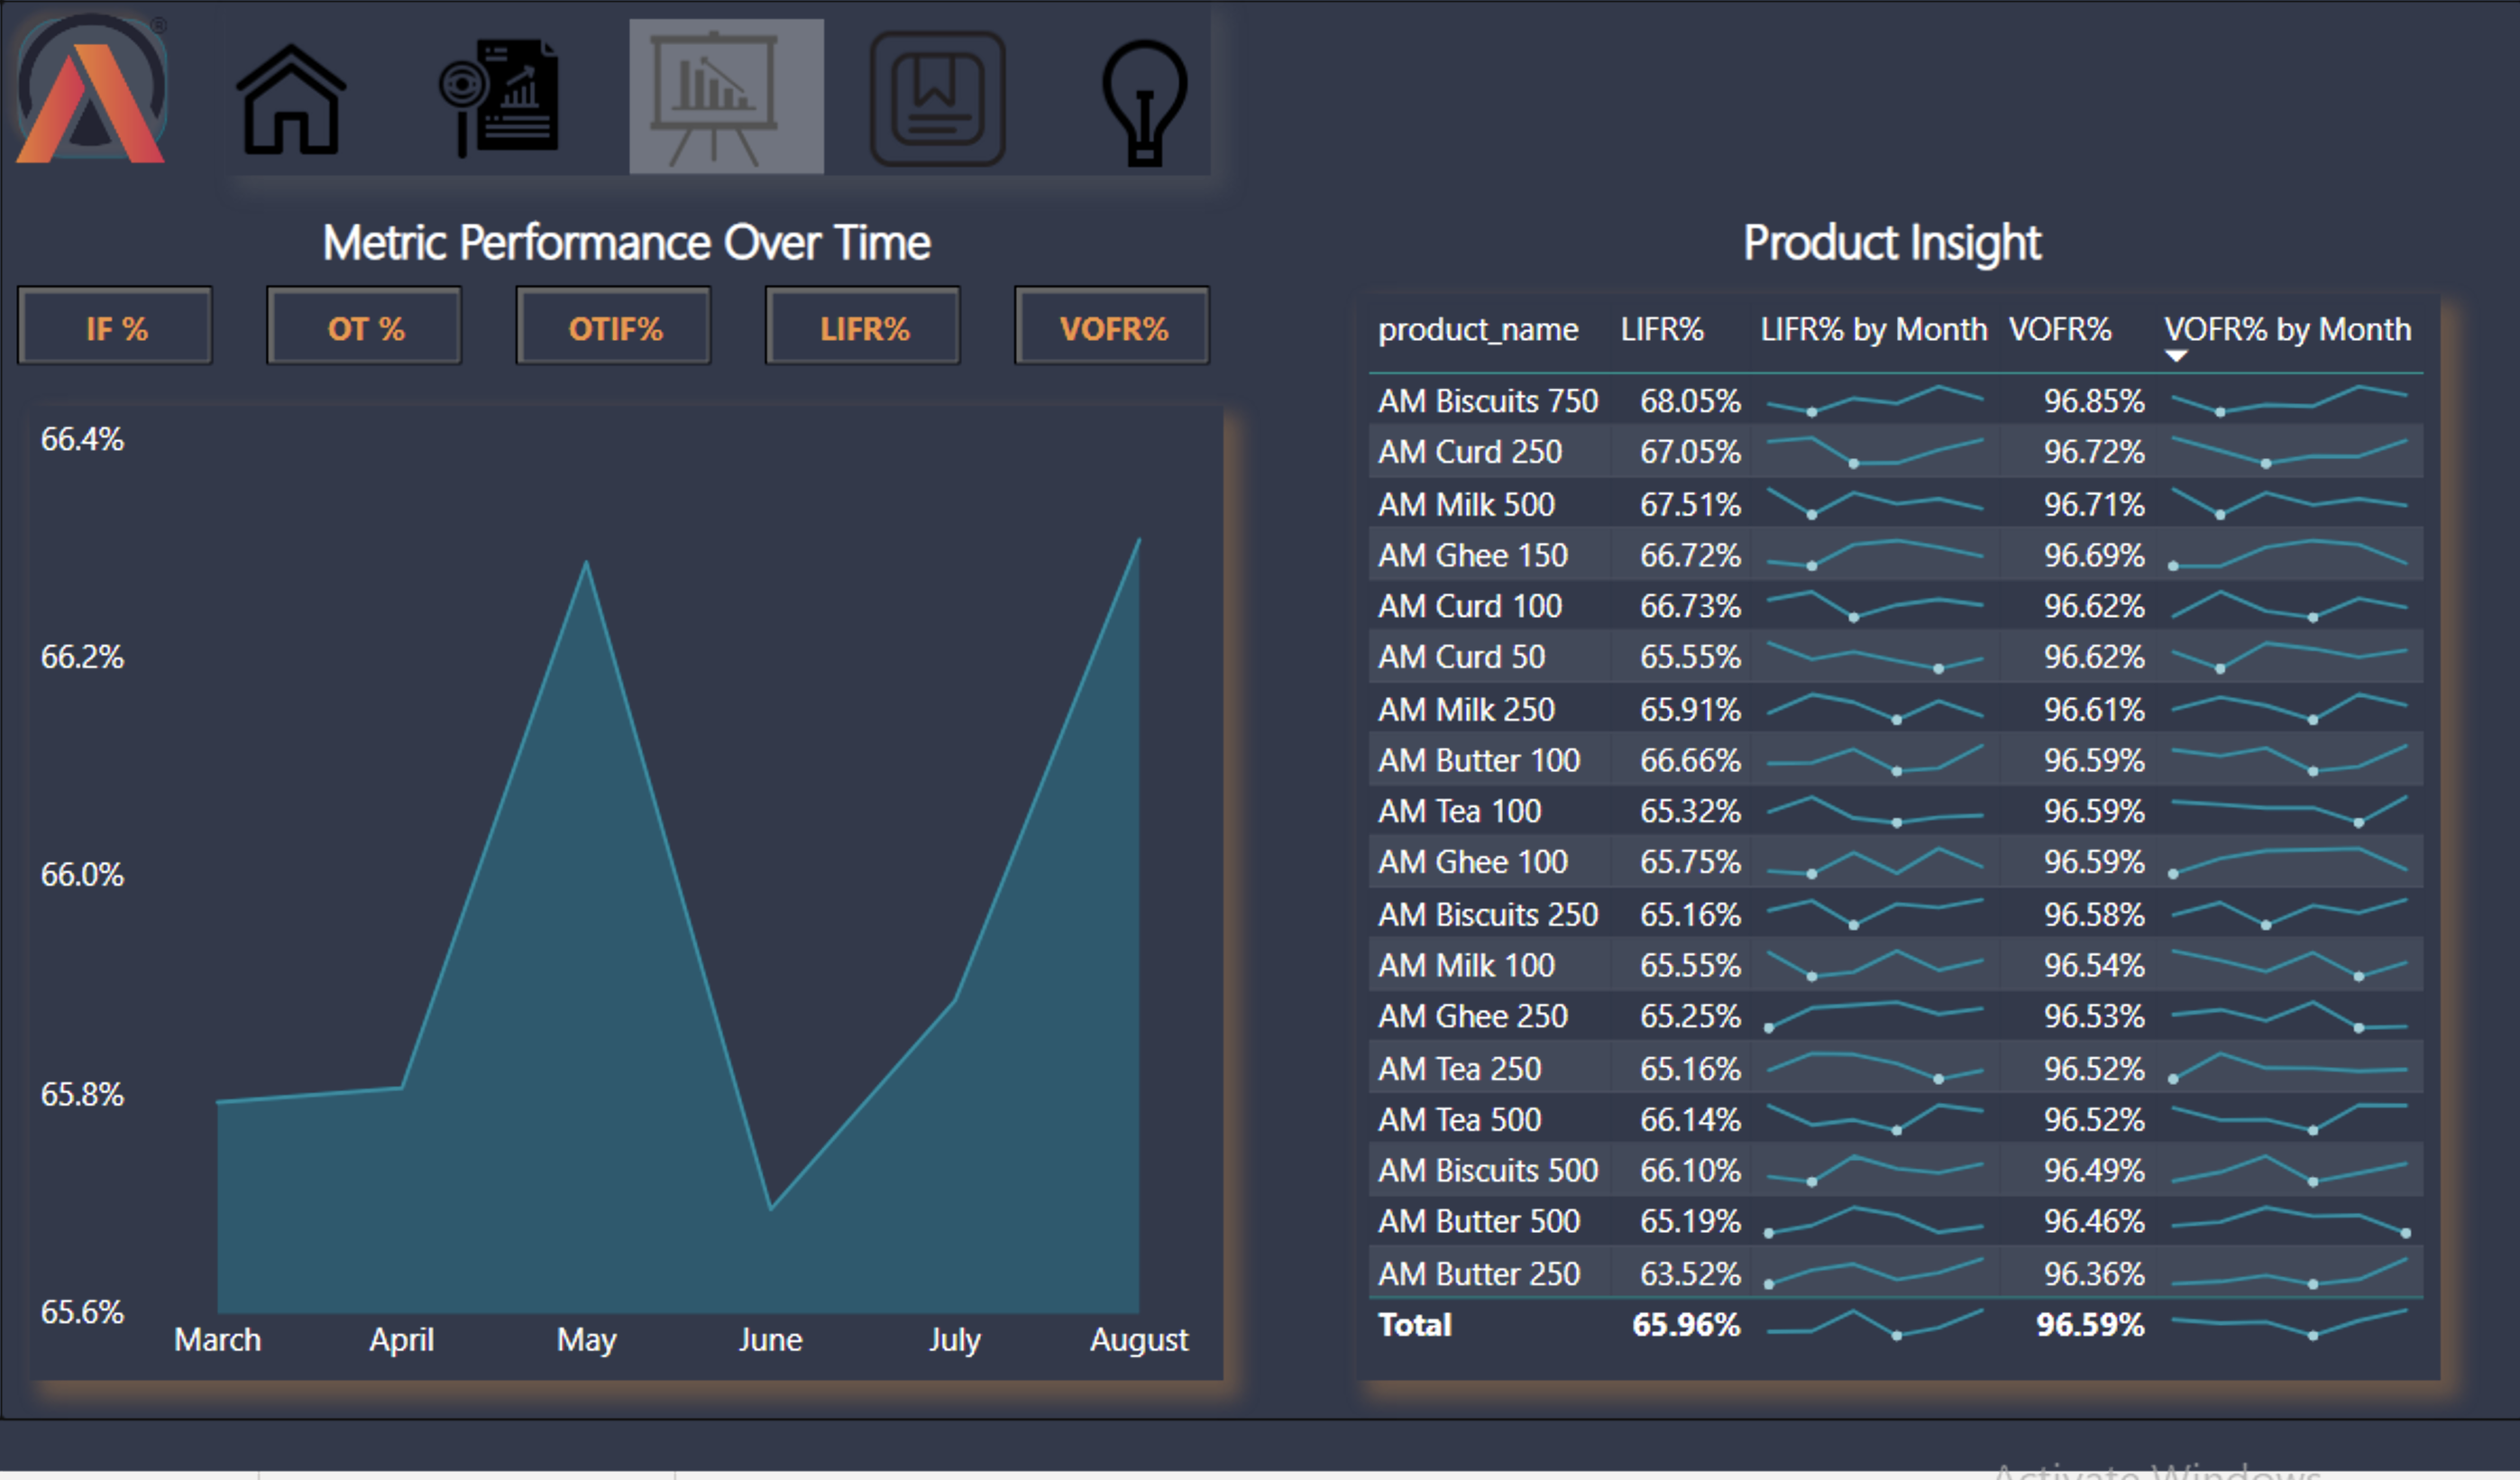

The page's visual inventory and layout, read from the dashboard file:
{"tool":"powerbi","page":{"name":"Over time View","canvas":[1280,720],"ordinal":2},"visuals":[{"type":"actionButton","title":"IF % button","box":[8.4,144.9,99.5,40.5],"z":1000},{"type":"actionButton","title":"ot  button","box":[134.9,144.9,99.5,40.5],"z":2000},{"type":"actionButton","title":"lifr button","box":[387.9,144.9,99.5,40.5],"z":3000},{"type":"actionButton","title":"otif button","box":[261.4,144.9,99.5,40.5],"z":4000},{"type":"tableEx","fields":{"Values":["dim_products.product_name","DAX measures.LIFR%","SparklineData(DAX measures.LIFR%_[dim_date.date.Variation.Date Hierarchy.Month])","DAX measures.VOFR%","SparklineData(DAX measures.VOFR%_[dim_date.date.Variation.Date Hierarchy.Month])"]},"box":[688.1,148.4,549.8,551.5],"z":5000},{"type":"actionButton","title":"vofr button","box":[514.4,144.9,99.5,40.5],"z":6000},{"type":"areaChart","title":"LIFR % graph","fields":{"Category":["dim_date.Month"],"Y":["DAX measures.LIFR%"]},"box":[15.2,205.7,605.4,494.1],"z":9000},{"type":"textbox","box":[15.2,99.5,605.4,45.5],"z":11000},{"type":"textbox","box":[688.1,99.5,549.8,45.5],"z":12000},{"type":"shape","box":[0,0,93.7,88.9],"z":13000},{"type":"shape","title":"BOX","box":[114.7,0,499.2,89.4],"z":13500},{"type":"image","box":[0,0,94.4,87.7],"z":14000},{"type":"image","box":[107.9,10.1,79,80],"z":15000},{"type":"image","box":[213.3,10.1,79,80],"z":16000},{"type":"image","box":[322.1,10.1,79,80],"z":17000},{"type":"image","box":[435.9,10.1,79,80],"z":18000},{"type":"image","box":[541.3,10.1,79,80],"z":19000},{"type":"shape","box":[318.7,10.1,99.5,79.3],"z":21000}]}

Visuals, with their boxes on the page's 1280x720 design canvas (x1, y1, x2, y2). These are canvas units, not pixel positions in the 2520x1480 screenshot, which may show the page scaled, cropped or inside an application window:
"IF % button" actionButton: (x1=8, y1=145, x2=108, y2=185)
"ot  button" actionButton: (x1=135, y1=145, x2=234, y2=185)
"lifr button" actionButton: (x1=388, y1=145, x2=487, y2=185)
"otif button" actionButton: (x1=261, y1=145, x2=361, y2=185)
tableEx - dim_products.product_name x DAX measures.LIFR%: (x1=688, y1=148, x2=1238, y2=700)
"vofr button" actionButton: (x1=514, y1=145, x2=614, y2=185)
"LIFR % graph" areaChart: (x1=15, y1=206, x2=621, y2=700)
textbox: (x1=15, y1=100, x2=621, y2=145)
textbox: (x1=688, y1=100, x2=1238, y2=145)
shape: (x1=0, y1=0, x2=94, y2=89)
"BOX" shape: (x1=115, y1=0, x2=614, y2=89)
image: (x1=0, y1=0, x2=94, y2=88)
image: (x1=108, y1=10, x2=187, y2=90)
image: (x1=213, y1=10, x2=292, y2=90)
image: (x1=322, y1=10, x2=401, y2=90)
image: (x1=436, y1=10, x2=515, y2=90)
image: (x1=541, y1=10, x2=620, y2=90)
shape: (x1=319, y1=10, x2=418, y2=89)
